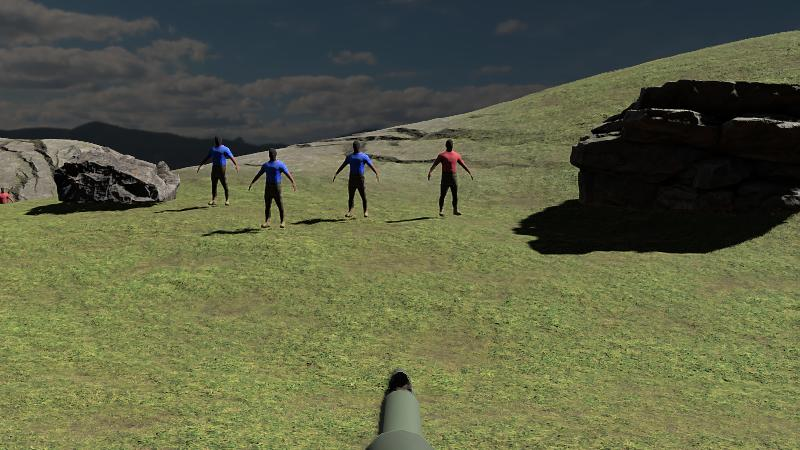Human: (248, 148, 296, 229), (333, 140, 379, 218), (428, 139, 473, 217), (198, 135, 239, 206)
